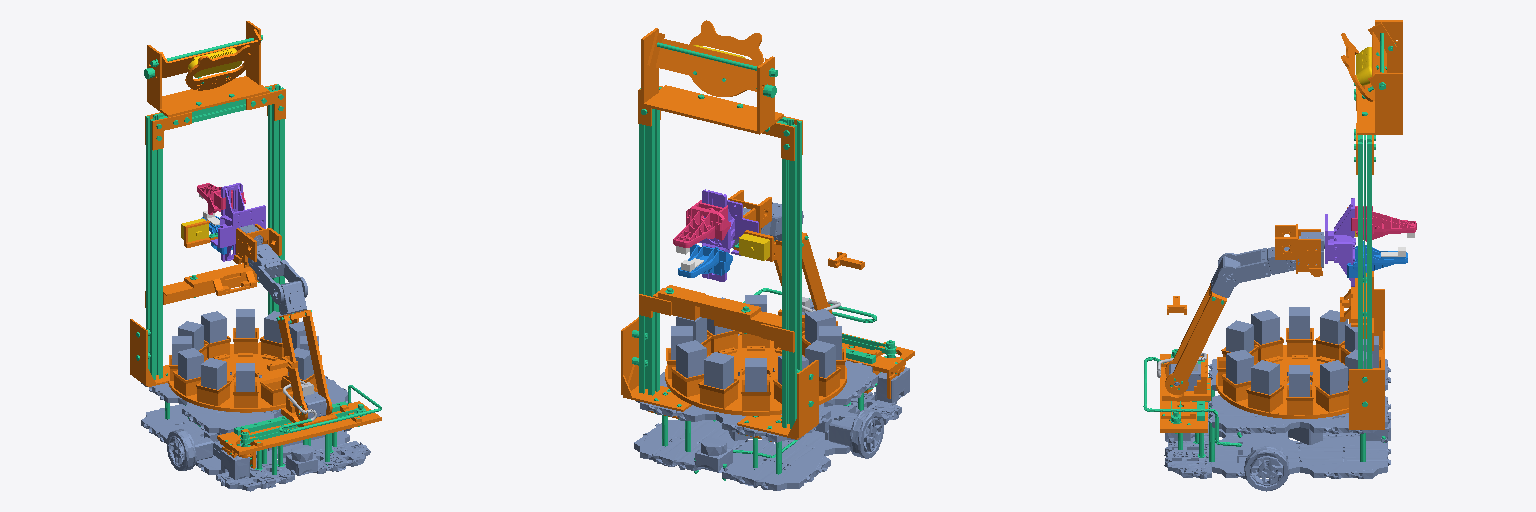
URDF robot description (v75_robot):
<?xml version='1.0' encoding='utf-8'?>
<robot name="v75_robot">
  <!-- 노브(selector)와 앞쪽 받침대는 로봇이 아니라 경기장 물체라서 urdf/knob_station.urdf 로 분리함 -->
  <material name="body_slate">
    <color rgba="0.55 0.63 0.78 1" />
  </material>
  <material name="orange">
    <color rgba="1.0 0.55 0.12 1" />
  </material>
  <material name="mint">
    <color rgba="0.20 0.85 0.62 1" />
  </material>
  <material name="yellow">
    <color rgba="1.0 0.84 0.10 1" />
  </material>
  <material name="light_gray">
    <color rgba="0.82 0.84 0.88 1" />
  </material>
  <material name="gripper_violet">
    <color rgba="0.62 0.45 1.0 1" />
  </material>
  <material name="jaw_pink">
    <color rgba="1.0 0.30 0.55 1" />
  </material>
  <material name="jaw_sky">
    <color rgba="0.20 0.62 1.0 1" />
  </material>
  <material name="knob_red">
    <color rgba="0.95 0.15 0.20 1" />
  </material>
  <material name="pad_white">
    <color rgba="0.97 0.97 0.97 1" />
  </material>
  <!--Visual / kinematic export. q=0 is the saved V75 CAD pose. Not a hardware controller or dynamics model.-->
  <link name="base_link">
    <visual name="base_link_black">
      <origin xyz="0 0 0" rpy="0 0 0" />
      <geometry>
        <mesh filename="package://v75_robot_description/meshes/base_link_black.stl" scale="1 1 1" />
      </geometry>
      <material name="body_slate" />
    </visual>
  </link>
  <link name="slide_link">
    <visual name="slide_link_green">
      <origin xyz="0 0 0" rpy="0 0 0" />
      <geometry>
        <mesh filename="package://v75_robot_description/meshes/slide_link_green.stl" scale="1 1 1" />
      </geometry>
      <material name="mint" />
    </visual>
    <!-- added: slide_link_gray.stl was in meshes/ but not referenced -->
  </link>
  <link name="shoulder_link">
    <visual name="shoulder_link_orange">
      <origin xyz="0 0 0" rpy="0 0 0" />
      <geometry>
        <mesh filename="package://v75_robot_description/meshes/shoulder_link_orange.stl" scale="1 1 1" />
      </geometry>
      <material name="orange" />
    </visual>
  </link>
  <link name="elbow_link">
    <visual name="elbow_link_black">
      <origin xyz="0 0 0" rpy="0 0 0" />
      <geometry>
        <mesh filename="package://v75_robot_description/meshes/elbow_link_black.stl" scale="1 1 1" />
      </geometry>
      <material name="body_slate" />
    </visual>
  </link>
  <link name="wrist_pitch_link">
    <visual name="wrist_pitch_link_orange">
      <origin xyz="0 0 0" rpy="0 0 0" />
      <geometry>
        <mesh filename="package://v75_robot_description/meshes/wrist_pitch_link_orange.stl" scale="1 1 1" />
      </geometry>
      <material name="orange" />
    </visual>
  </link>
  <link name="tool_roll_link">
    <visual name="tool_roll_link_black">
      <origin xyz="0 0 0" rpy="0 0 0" />
      <geometry>
        <mesh filename="package://v75_robot_description/meshes/tool_roll_link_black.stl" scale="1 1 1" />
      </geometry>
      <material name="gripper_violet" />
    </visual>
  </link>
  <link name="jaw_upper_link">
    <visual name="jaw_upper_link_black">
      <origin xyz="0 0 0" rpy="0 0 0" />
      <geometry>
        <mesh filename="package://v75_robot_description/meshes/jaw_upper_link_black.stl" scale="1 1 1" />
      </geometry>
      <material name="jaw_pink" />
    </visual>
  </link>
  <link name="carousel_link">
    <visual name="carousel_link_black">
      <origin xyz="0 0 0" rpy="0 0 0" />
      <geometry>
        <mesh filename="package://v75_robot_description/meshes/carousel_link_black.stl" scale="1 1 1" />
      </geometry>
      <material name="body_slate" />
    </visual>
  </link>
  <link name="jaw_lower_link">
    <visual name="jaw_lower_link_black">
      <origin xyz="0 0 0" rpy="0 0 0" />
      <geometry>
        <mesh filename="package://v75_robot_description/meshes/jaw_lower_link_black.stl" scale="1 1 1" />
      </geometry>
      <material name="jaw_sky" />
    </visual>
  </link>
  <link name="idler_link" />
  <!-- added: grasp center between the two jaw pads (measured from jaw meshes at q=0).
       그리퍼 메시를 15° 보정한 뒤 잡는 점이 비틀기 축 위에 옴 -->
  <link name="tool_tcp" />
  <joint name="slide_joint" type="prismatic">
    <parent link="base_link" />
    <child link="slide_link" />
    <origin xyz="0.02 0 0" rpy="0 0 0" />
    <axis xyz="1 0 0" />
    <limit effort="0" velocity="0" lower="-0.072" upper="0.032" />
  </joint>
  <joint name="shoulder_joint" type="revolute">
    <parent link="slide_link" />
    <child link="shoulder_link" />
    <origin xyz="0.129 0.051 0.12225" rpy="0 0 0" />
    <axis xyz="1 -4.17700833006e-17 -1.45864345059e-18" />
    <limit effort="0" velocity="0" lower="-1.15191730632" upper="1.98967534727" />
  </joint>
  <joint name="elbow_joint" type="revolute">
    <parent link="shoulder_link" />
    <child link="elbow_link" />
    <origin xyz="1.11022302463e-16 0.0764664888983 0.171746546037" rpy="0 0 0" />
    <axis xyz="1 -6.34787704949e-17 -3.21286950234e-19" />
    <limit effort="0" velocity="0" lower="-1.52541776624" upper="2.83790536374" />
  </joint>
  <joint name="wrist_pitch_joint" type="revolute">
    <parent link="elbow_link" />
    <child link="wrist_pitch_link" />
    <origin xyz="2.77555756156e-16 0.0835666144223 0.0451842998617" rpy="0 0 0" />
    <axis xyz="1 -6.34787704949e-17 -3.21286950234e-19" />
    <limit effort="0" velocity="0" lower="-1.67900674042" upper="1.98618468877" />
  </joint>
  <joint name="tool_roll_joint" type="revolute">
    <parent link="wrist_pitch_link" />
    <child link="tool_roll_link" />
    <origin xyz="2.77555756156e-17 0.056 1.11022302463e-16" rpy="0 0 0" />
    <axis xyz="-2.58569494309e-15 1 7.70863789488e-17" />
    <limit effort="0" velocity="0" lower="-1.74532925199" upper="1.74532925199" />
  </joint>
  <joint name="jaw_upper_joint" type="prismatic">
    <parent link="tool_roll_link" />
    <child link="jaw_upper_link" />
    <origin xyz="0 -1.66533453694e-16 -0.01" rpy="0 0 0" />
    <axis xyz="-2.77555756156e-13 5.55111512312e-14 -1" />
    <limit effort="0" velocity="0" lower="-0.021" upper="0.01" />
  </joint>
  <joint name="carousel_joint" type="continuous">
    <parent link="base_link" />
    <child link="carousel_link" />
    <origin xyz="0.129 0.23 0.1" rpy="0 0 0" />
    <axis xyz="0 0 1" />
    <limit effort="0" velocity="0" />
  </joint>
  <joint name="jaw_lower_joint" type="prismatic">
    <parent link="tool_roll_link" />
    <child link="jaw_lower_link" />
    <origin xyz="0 -1.11022302463e-16 0.01" rpy="0 0 0" />
    <axis xyz="-3.57353036051e-13 5.55111512313e-14 1" />
    <limit effort="0" velocity="0" lower="-0.021" upper="0.01" />
  </joint>
  <joint name="idler_joint" type="continuous">
    <parent link="base_link" />
    <child link="idler_link" />
    <origin xyz="0.234 0.0563662 0.0955" rpy="0 0 0" />
    <axis xyz="0 0 1" />
    <limit effort="0" velocity="0" />
  </joint>
  <joint name="tool_tcp_joint" type="fixed">
    <parent link="tool_roll_link" />
    <child link="tool_tcp" />
    <origin xyz="0 0.1024 0" rpy="0 0 0" />
  </joint>
  <link name="base_link_vis_green">
    <visual name="base_link_green">
      <origin xyz="0 0 0" rpy="0 0 0" />
      <geometry>
        <mesh filename="package://v75_robot_description/meshes/base_link_green.stl" scale="1 1 1" />
      </geometry>
      <material name="mint" />
    </visual>
  </link>
  <link name="base_link_vis_orange">
    <visual name="base_link_orange">
      <origin xyz="0 0 0" rpy="0 0 0" />
      <geometry>
        <mesh filename="package://v75_robot_description/meshes/base_link_orange.stl" scale="1 1 1" />
      </geometry>
      <material name="orange" />
    </visual>
  </link>
  <link name="base_link_vis_yellow">
    <visual name="base_link_yellow">
      <origin xyz="0 0 0" rpy="0 0 0" />
      <geometry>
        <mesh filename="package://v75_robot_description/meshes/base_link_yellow.stl" scale="1 1 1" />
      </geometry>
      <material name="yellow" />
    </visual>
  </link>
  <link name="slide_link_vis_black">
    <visual name="slide_link_black">
      <origin xyz="0 0 0" rpy="0 0 0" />
      <geometry>
        <mesh filename="package://v75_robot_description/meshes/slide_link_black.stl" scale="1 1 1" />
      </geometry>
      <material name="body_slate" />
    </visual>
  </link>
  <link name="slide_link_vis_orange">
    <visual name="slide_link_orange">
      <origin xyz="0 0 0" rpy="0 0 0" />
      <geometry>
        <mesh filename="package://v75_robot_description/meshes/slide_link_orange.stl" scale="1 1 1" />
      </geometry>
      <material name="orange" />
    </visual>
  </link>
  <link name="slide_link_vis_gray">
    <visual name="slide_link_gray">
      <origin xyz="0 0 0" rpy="0 0 0" />
      <geometry>
        <mesh filename="package://v75_robot_description/meshes/slide_link_gray.stl" scale="1 1 1" />
      </geometry>
      <material name="light_gray" />
    </visual>
  </link>
  <link name="shoulder_link_vis_black">
    <visual name="shoulder_link_black">
      <origin xyz="0 0 0" rpy="0 0 0" />
      <geometry>
        <mesh filename="package://v75_robot_description/meshes/shoulder_link_black.stl" scale="1 1 1" />
      </geometry>
      <material name="body_slate" />
    </visual>
  </link>
  <link name="shoulder_link_vis_green">
    <visual name="shoulder_link_green">
      <origin xyz="0 0 0" rpy="0 0 0" />
      <geometry>
        <mesh filename="package://v75_robot_description/meshes/shoulder_link_green.stl" scale="1 1 1" />
      </geometry>
      <material name="mint" />
    </visual>
  </link>
  <link name="wrist_pitch_link_vis_black">
    <visual name="wrist_pitch_link_black">
      <origin xyz="0 0 0" rpy="0 0 0" />
      <geometry>
        <mesh filename="package://v75_robot_description/meshes/wrist_pitch_link_black.stl" scale="1 1 1" />
      </geometry>
      <material name="body_slate" />
    </visual>
  </link>
  <link name="tool_roll_link_vis_yellow">
    <visual name="tool_roll_link_yellow">
      <origin xyz="0 0 0" rpy="0 0 0" />
      <geometry>
        <mesh filename="package://v75_robot_description/meshes/tool_roll_link_yellow.stl" scale="1 1 1" />
      </geometry>
      <material name="yellow" />
    </visual>
  </link>
  <link name="tool_roll_link_vis_orange">
    <visual name="tool_roll_link_orange">
      <origin xyz="0 0 0" rpy="0 0 0" />
      <geometry>
        <mesh filename="package://v75_robot_description/meshes/tool_roll_link_orange.stl" scale="1 1 1" />
      </geometry>
      <material name="orange" />
    </visual>
  </link>
  <link name="tool_roll_link_vis_green">
    <visual name="tool_roll_link_green">
      <origin xyz="0 0 0" rpy="0 0 0" />
      <geometry>
        <mesh filename="package://v75_robot_description/meshes/tool_roll_link_green.stl" scale="1 1 1" />
      </geometry>
      <material name="mint" />
    </visual>
  </link>
  <link name="jaw_upper_link_vis_orange">
    <visual name="jaw_upper_link_orange">
      <origin xyz="0 0 0" rpy="0 0 0" />
      <geometry>
        <mesh filename="package://v75_robot_description/meshes/jaw_upper_link_orange.stl" scale="1 1 1" />
      </geometry>
      <material name="pad_white" />
    </visual>
  </link>
  <link name="carousel_link_vis_orange">
    <visual name="carousel_link_orange">
      <origin xyz="0 0 0" rpy="0 0 0" />
      <geometry>
        <mesh filename="package://v75_robot_description/meshes/carousel_link_orange.stl" scale="1 1 1" />
      </geometry>
      <material name="orange" />
    </visual>
  </link>
  <link name="carousel_link_vis_green">
    <visual name="carousel_link_green">
      <origin xyz="0 0 0" rpy="0 0 0" />
      <geometry>
        <mesh filename="package://v75_robot_description/meshes/carousel_link_green.stl" scale="1 1 1" />
      </geometry>
      <material name="mint" />
    </visual>
  </link>
  <link name="jaw_lower_link_vis_orange">
    <visual name="jaw_lower_link_orange">
      <origin xyz="0 0 0" rpy="0 0 0" />
      <geometry>
        <mesh filename="package://v75_robot_description/meshes/jaw_lower_link_orange.stl" scale="1 1 1" />
      </geometry>
      <material name="pad_white" />
    </visual>
  </link>
  <joint name="base_link_vis_green_joint" type="fixed">
    <parent link="base_link" />
    <child link="base_link_vis_green" />
    <origin xyz="0 0 0" rpy="0 0 0" />
  </joint>
  <joint name="base_link_vis_orange_joint" type="fixed">
    <parent link="base_link" />
    <child link="base_link_vis_orange" />
    <origin xyz="0 0 0" rpy="0 0 0" />
  </joint>
  <joint name="base_link_vis_yellow_joint" type="fixed">
    <parent link="base_link" />
    <child link="base_link_vis_yellow" />
    <origin xyz="0 0 0" rpy="0 0 0" />
  </joint>
  <joint name="slide_link_vis_black_joint" type="fixed">
    <parent link="slide_link" />
    <child link="slide_link_vis_black" />
    <origin xyz="0 0 0" rpy="0 0 0" />
  </joint>
  <joint name="slide_link_vis_orange_joint" type="fixed">
    <parent link="slide_link" />
    <child link="slide_link_vis_orange" />
    <origin xyz="0 0 0" rpy="0 0 0" />
  </joint>
  <joint name="slide_link_vis_gray_joint" type="fixed">
    <parent link="slide_link" />
    <child link="slide_link_vis_gray" />
    <origin xyz="0 0 0" rpy="0 0 0" />
  </joint>
  <joint name="shoulder_link_vis_black_joint" type="fixed">
    <parent link="shoulder_link" />
    <child link="shoulder_link_vis_black" />
    <origin xyz="0 0 0" rpy="0 0 0" />
  </joint>
  <joint name="shoulder_link_vis_green_joint" type="fixed">
    <parent link="shoulder_link" />
    <child link="shoulder_link_vis_green" />
    <origin xyz="0 0 0" rpy="0 0 0" />
  </joint>
  <joint name="wrist_pitch_link_vis_black_joint" type="fixed">
    <parent link="wrist_pitch_link" />
    <child link="wrist_pitch_link_vis_black" />
    <origin xyz="0 0 0" rpy="0 0 0" />
  </joint>
  <joint name="tool_roll_link_vis_yellow_joint" type="fixed">
    <parent link="tool_roll_link" />
    <child link="tool_roll_link_vis_yellow" />
    <origin xyz="0 0 0" rpy="0 0 0" />
  </joint>
  <joint name="tool_roll_link_vis_orange_joint" type="fixed">
    <parent link="tool_roll_link" />
    <child link="tool_roll_link_vis_orange" />
    <origin xyz="0 0 0" rpy="0 0 0" />
  </joint>
  <joint name="tool_roll_link_vis_green_joint" type="fixed">
    <parent link="tool_roll_link" />
    <child link="tool_roll_link_vis_green" />
    <origin xyz="0 0 0" rpy="0 0 0" />
  </joint>
  <joint name="jaw_upper_link_vis_orange_joint" type="fixed">
    <parent link="jaw_upper_link" />
    <child link="jaw_upper_link_vis_orange" />
    <origin xyz="0 0 0" rpy="0 0 0" />
  </joint>
  <joint name="carousel_link_vis_orange_joint" type="fixed">
    <parent link="carousel_link" />
    <child link="carousel_link_vis_orange" />
    <origin xyz="0 0 0" rpy="0 0 0" />
  </joint>
  <joint name="carousel_link_vis_green_joint" type="fixed">
    <parent link="carousel_link" />
    <child link="carousel_link_vis_green" />
    <origin xyz="0 0 0" rpy="0 0 0" />
  </joint>
  <joint name="jaw_lower_link_vis_orange_joint" type="fixed">
    <parent link="jaw_lower_link" />
    <child link="jaw_lower_link_vis_orange" />
    <origin xyz="0 0 0" rpy="0 0 0" />
  </joint>
  <!-- 카메라 (그리퍼 옆 노란 상자). 렌즈 중심 = tool_roll_link 기준 (-65, 55.8, 0) mm, 그리퍼와 같은 방향(아래)을 봄.
       광학 프레임 관례: z = 보는 방향(tool +y), x = tool +x -->
  <link name="camera_optical_frame" />
  <joint name="camera_optical_joint" type="fixed">
    <parent link="tool_roll_link" />
    <child link="camera_optical_frame" />
    <origin xyz="-0.065 0.0558 0" rpy="-1.5707963 0 0" />
  </joint>
</robot>

--- What the picture shows (computed from the rendered views, not written in the file) ---
Views: 3 orthographic renders of the robot side by side, from view 1: azimuth 30°, elevation 25°; view 2: azimuth 150°, elevation 25°; view 3: azimuth 270°, elevation 25°.
Model v75_robot with 28 links and 27 joints (4 revolute, 2 continuous, 3 prismatic, 18 fixed), rooted at base_link, posed all joints at 0.
Links seen in each view (by area): view 1: base_link, base_link_vis_orange, base_link_vis_green, carousel_link_vis_orange, shoulder_link, tool_roll_link, elbow_link, wrist_pitch_link, shoulder_link_vis_black, jaw_upper_link, base_link_vis_yellow; view 2: base_link, base_link_vis_orange, base_link_vis_green, carousel_link_vis_orange, jaw_upper_link, tool_roll_link, shoulder_link, jaw_lower_link, wrist_pitch_link, tool_roll_link_vis_yellow; view 3: base_link, base_link_vis_orange, carousel_link_vis_orange, base_link_vis_green, shoulder_link, elbow_link, wrist_pitch_link, tool_roll_link, jaw_upper_link, slide_link_vis_orange, jaw_lower_link.
Boxes of the visible links, x1,y1,x2,y2 form: base_link: (141, 309, 370, 491); base_link_vis_orange: (130, 21, 381, 468); base_link_vis_green: (136, 35, 381, 474); carousel_link_vis_orange: (168, 328, 321, 412); shoulder_link: (278, 310, 332, 420); tool_roll_link: (210, 183, 265, 261); elbow_link: (248, 244, 307, 303); wrist_pitch_link: (233, 224, 281, 267); shoulder_link_vis_black: (278, 281, 306, 314); jaw_upper_link: (197, 183, 245, 214); base_link_vis_yellow: (188, 48, 241, 77); base_link: (634, 295, 909, 490); base_link_vis_orange: (621, 20, 914, 441); base_link_vis_green: (632, 42, 902, 480); carousel_link_vis_orange: (665, 322, 846, 415); jaw_upper_link: (673, 200, 730, 247); tool_roll_link: (699, 189, 758, 281); shoulder_link: (769, 232, 831, 313); jaw_lower_link: (678, 244, 732, 277); wrist_pitch_link: (728, 190, 771, 232); tool_roll_link_vis_yellow: (739, 234, 769, 260); base_link: (1164, 307, 1390, 491); base_link_vis_orange: (1160, 20, 1402, 432); carousel_link_vis_orange: (1216, 328, 1382, 418); base_link_vis_green: (1143, 33, 1395, 461); shoulder_link: (1165, 283, 1226, 394); elbow_link: (1218, 247, 1299, 287); wrist_pitch_link: (1275, 224, 1322, 276); tool_roll_link: (1325, 198, 1355, 286); jaw_upper_link: (1351, 206, 1416, 241); slide_link_vis_orange: (1162, 362, 1210, 401); jaw_lower_link: (1347, 241, 1407, 277).
Bounding box of the posed robot: 0.3065 × 0.3977 × 0.6491 m (x, y, z).
25 mesh visuals loaded from 25 distinct referenced files (25 binary STL).
